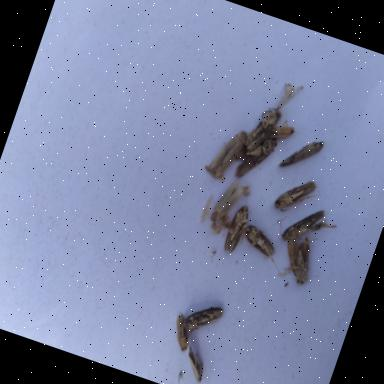pbw: (272, 197, 329, 252), (232, 130, 279, 188), (271, 171, 324, 222), (236, 222, 290, 272), (206, 124, 249, 184), (275, 230, 321, 286), (242, 100, 284, 158), (278, 130, 325, 178), (209, 174, 247, 228), (181, 296, 225, 340), (220, 202, 252, 255), (176, 341, 212, 384), (167, 310, 198, 353), (266, 114, 298, 146)
